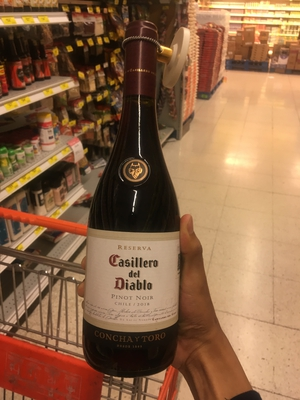casillero del diablo pinot noir: (78, 27, 199, 380)
